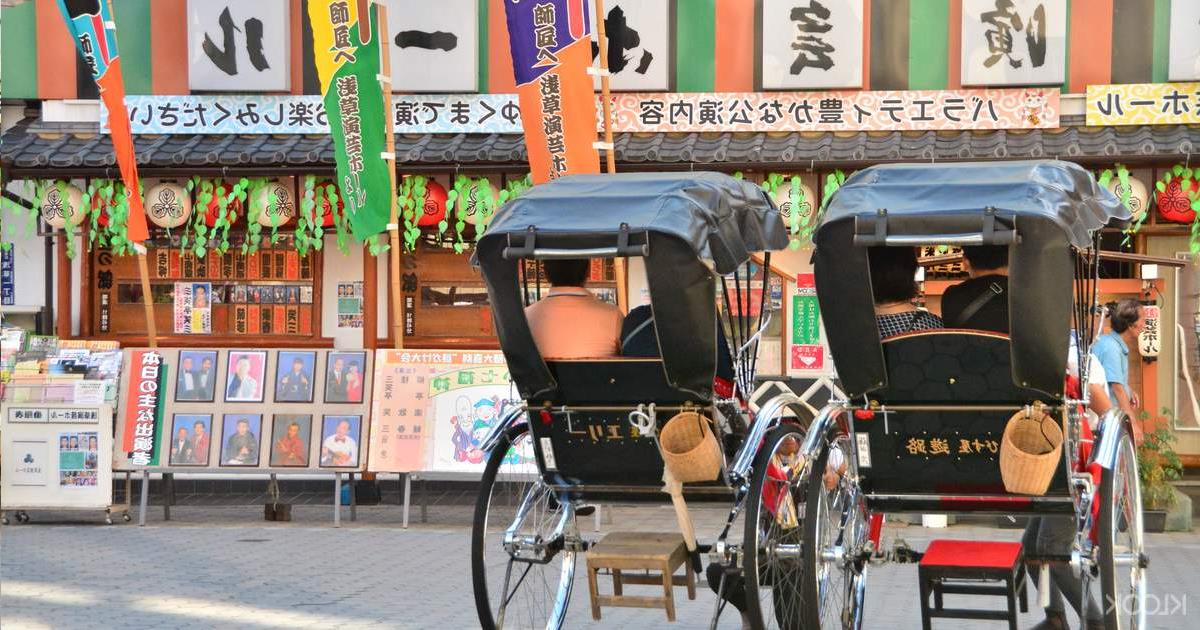Rickshaw: (473, 163, 806, 629), (821, 159, 1103, 625)
